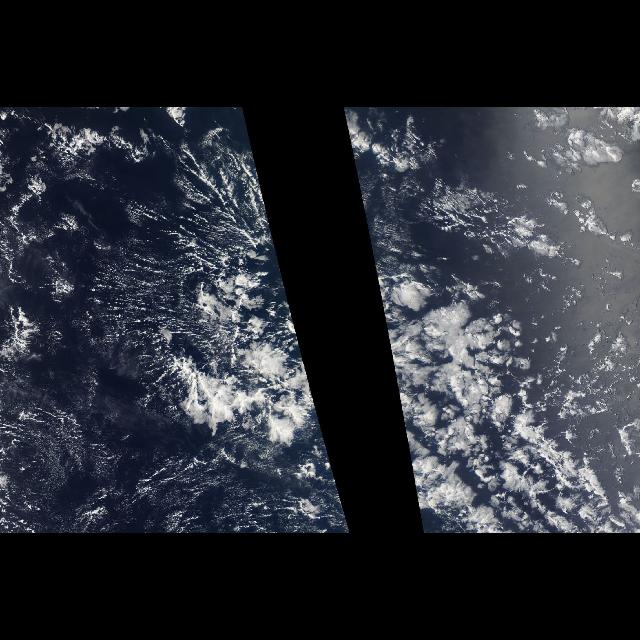Flower: (373, 255, 639, 529)
